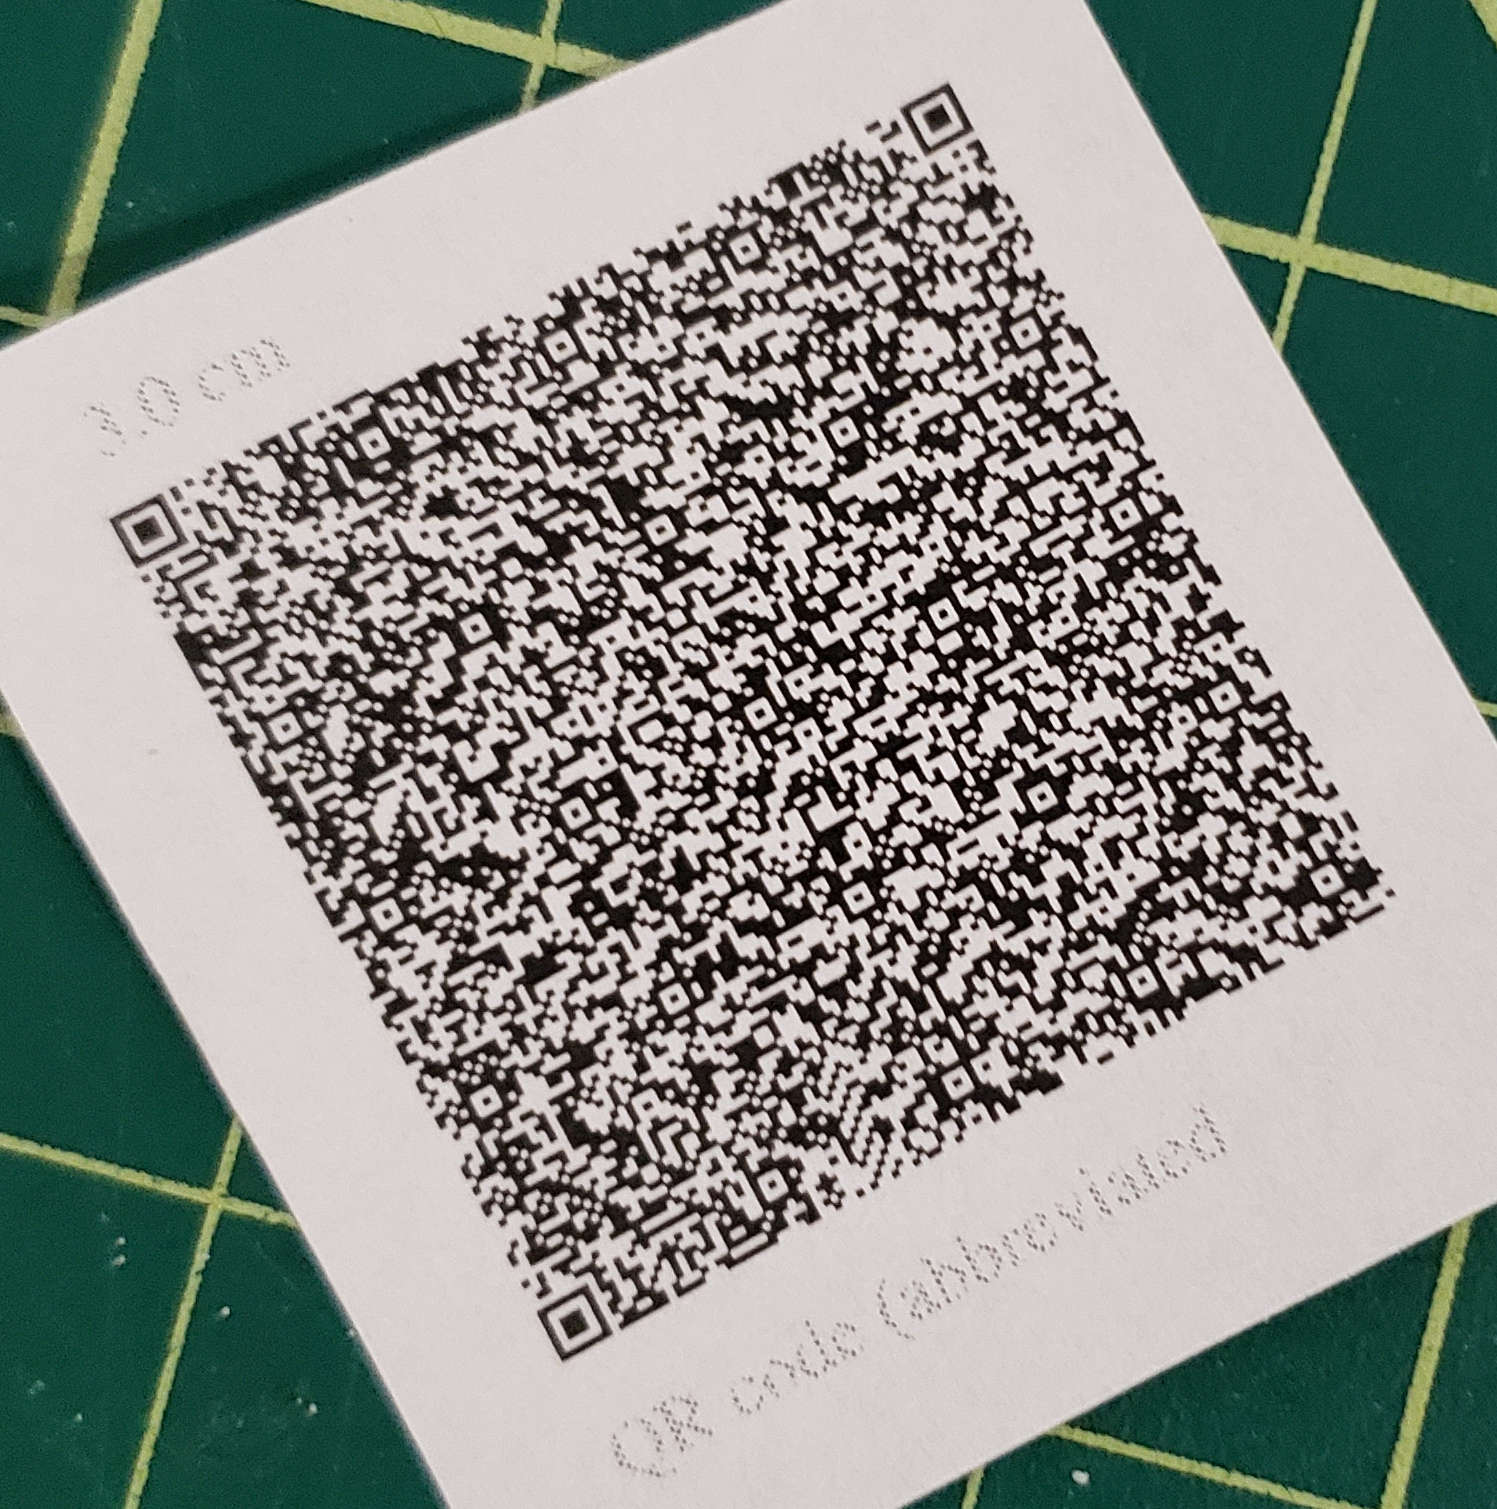QR_CODE: (64, 40, 1435, 1382)
